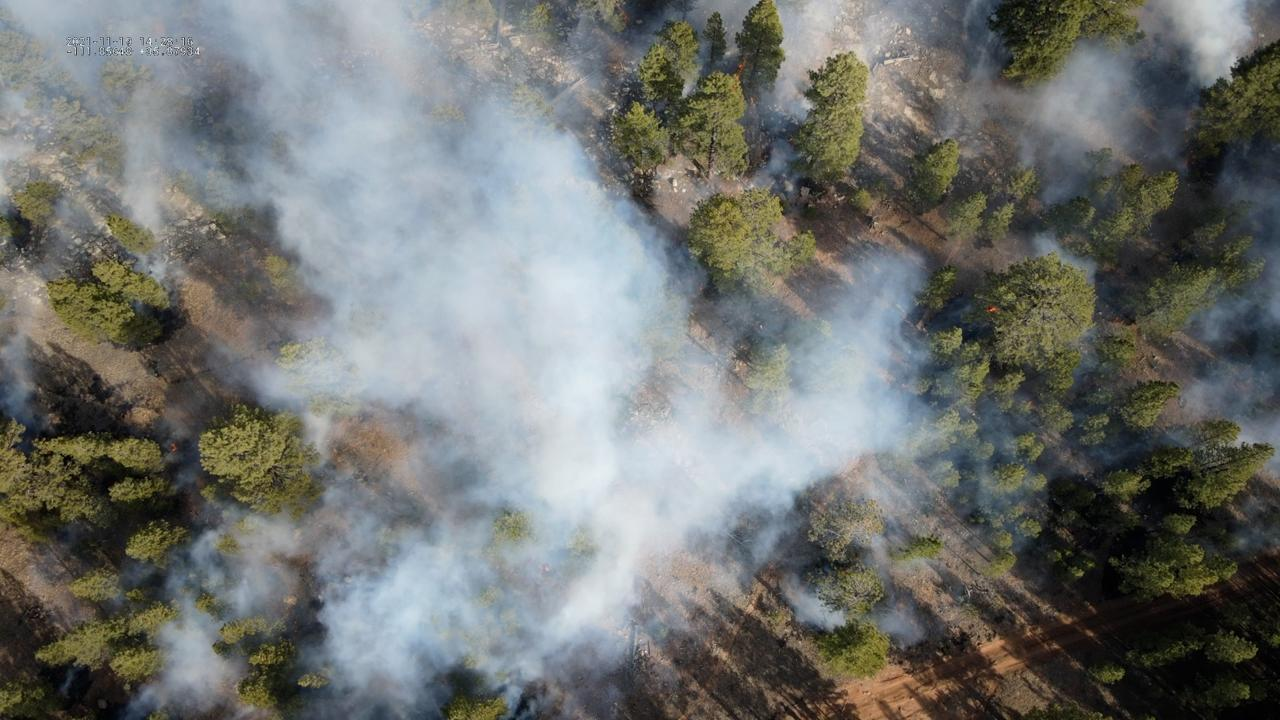fire: (737, 63, 745, 75), (983, 307, 998, 313), (170, 442, 176, 453)
smoke: (0, 0, 1280, 720)
